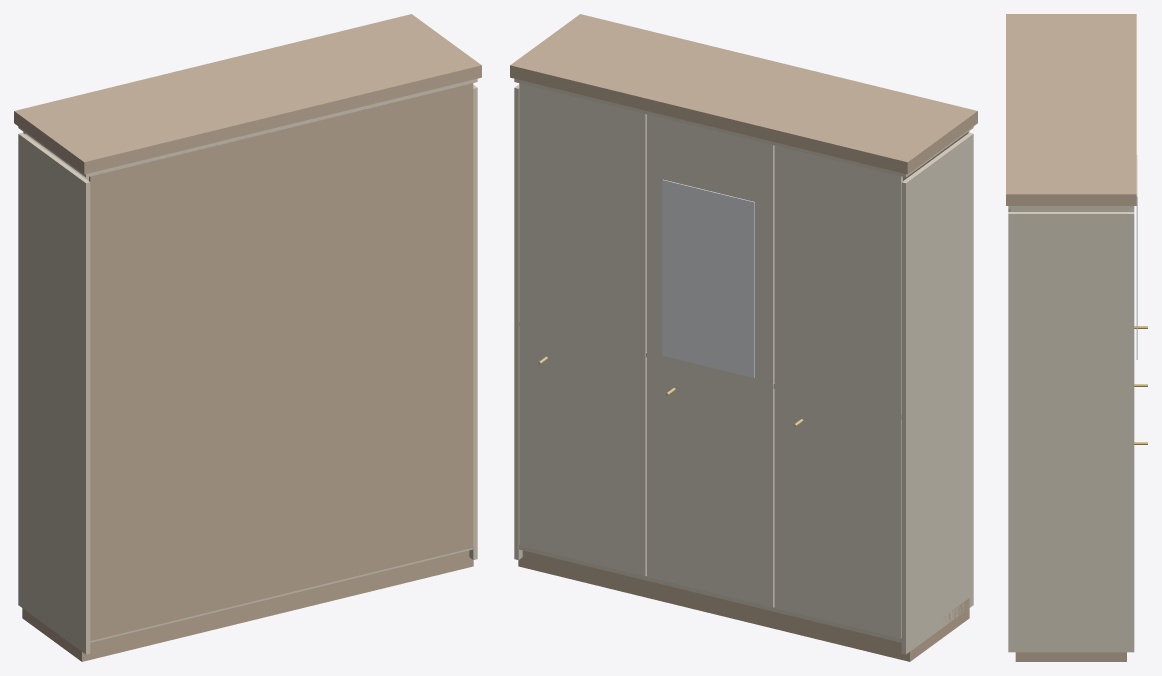
Rendered from wardrobe.glb.
3 views of the same model, side by side, from view 1: azimuth 30°, elevation 25°; view 2: azimuth 150°, elevation 25°; view 3: azimuth 270°, elevation 25° (orthographic). The views are drawn at different scales.
Visible parts, largest first — view 1: Wardrobe; view 2: Wardrobe; view 3: Wardrobe.
Part boxes in pixels (left/top/right/bottom): Wardrobe: left=14, top=14, right=481, bottom=661; Wardrobe: left=510, top=14, right=977, bottom=661; Wardrobe: left=1006, top=14, right=1147, bottom=661.
Bounding box in the file's own units: 2.03 × 2.46 × 0.674.
